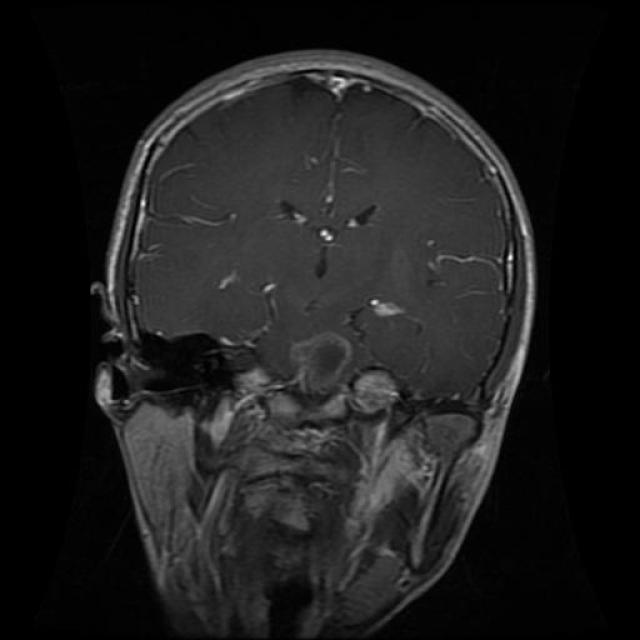glioma: (247, 175, 403, 311)
